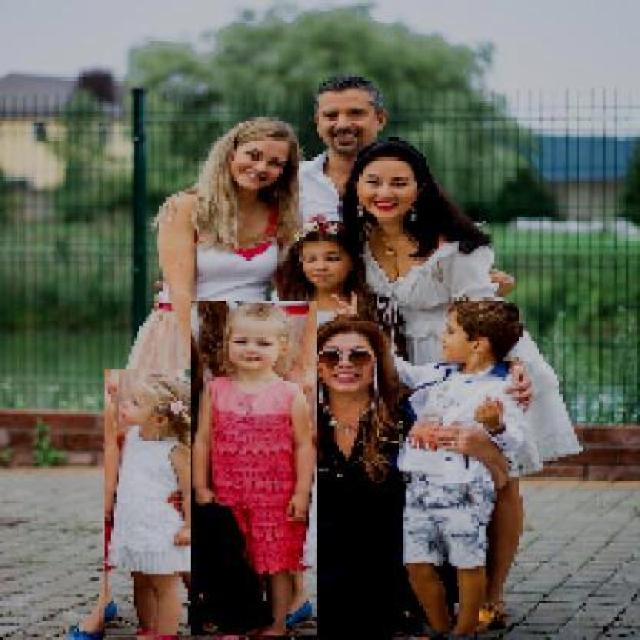child: (394, 292, 532, 638), (189, 300, 317, 637), (103, 369, 208, 637)
